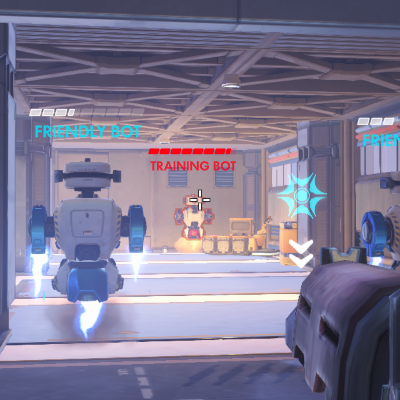hpbar: (148, 147, 237, 155)
